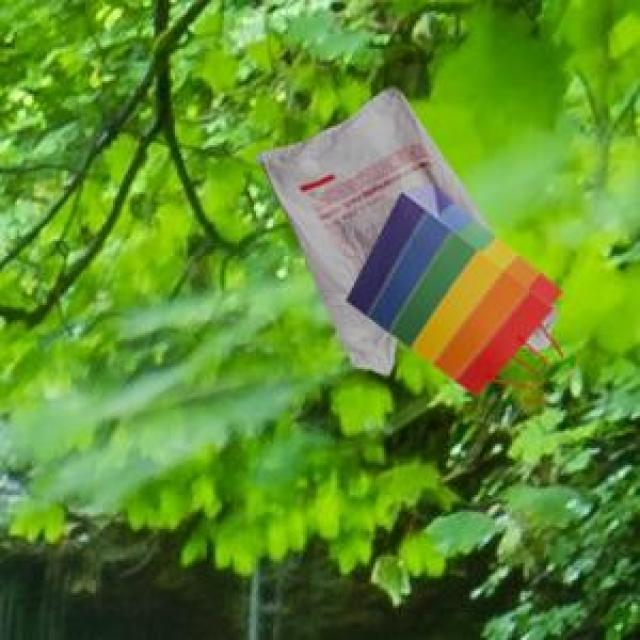paper: (344, 181, 557, 390)
